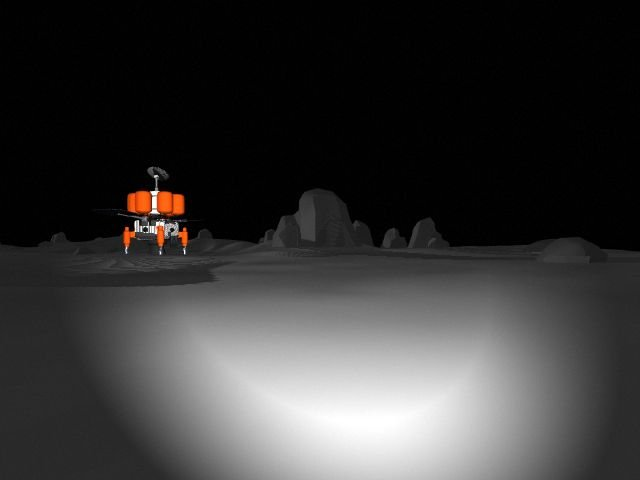homebase: (97, 165, 208, 256)
